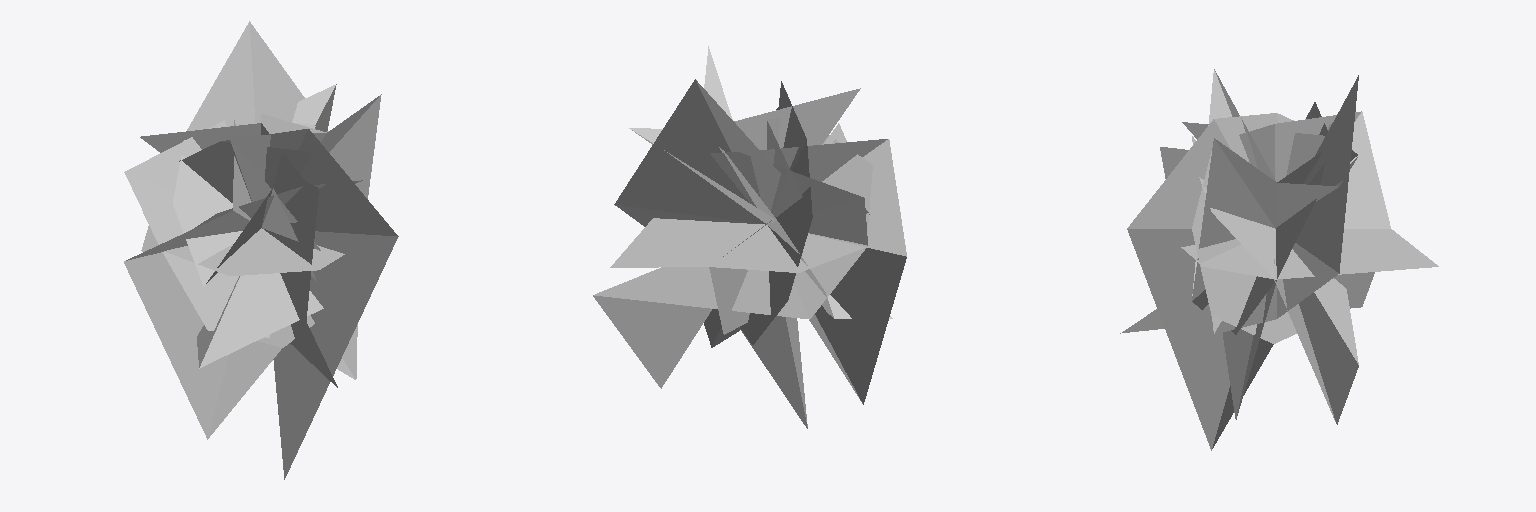
File: whisp.obj
The picture shows the model from 3 angles: view 1: azimuth 30°, elevation 25°; view 2: azimuth 150°, elevation 25°; view 3: azimuth 270°, elevation 25°; orthographic projection.
Size of the model in its own units: 2.71 by 3.77 by 2.76.